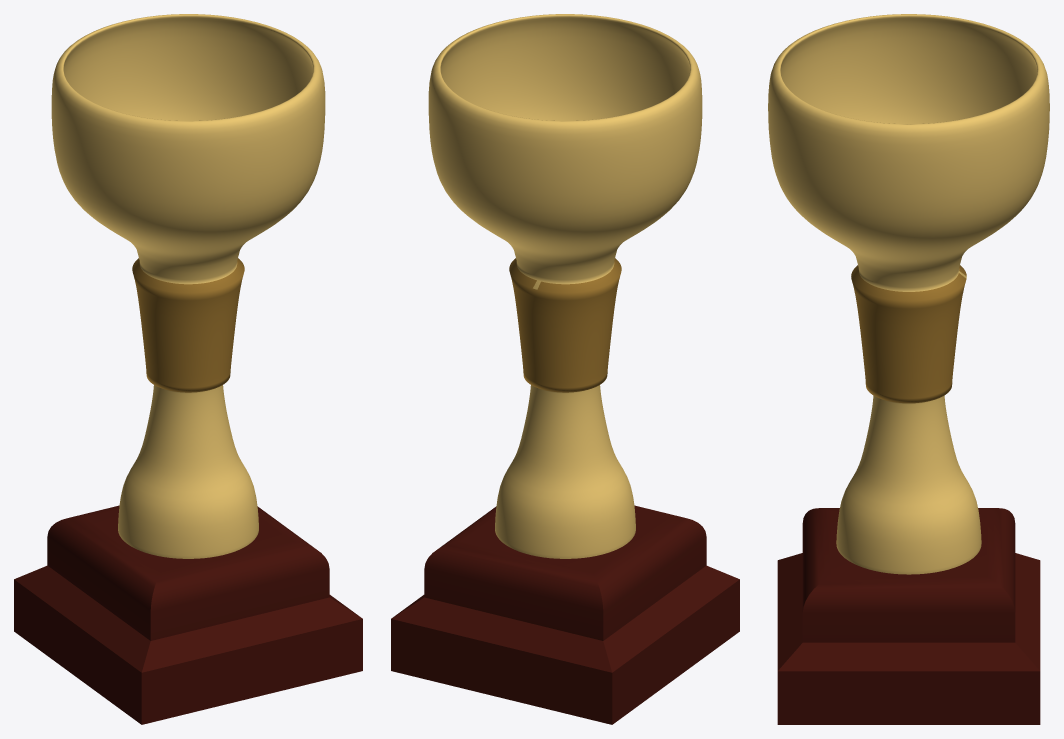
The model's file is puchar6.fbx.
3 views of the same model, side by side, from view 1: azimuth 30°, elevation 25°; view 2: azimuth 150°, elevation 25°; view 3: azimuth 270°, elevation 25° (orthographic). The views are drawn at different scales.
Parts seen in each view (by area): view 1: Vert; view 2: Vert; view 3: Vert.
Boxes of the visible parts, bbox=[...] form: Vert: bbox=[14, 14, 362, 724]; Vert: bbox=[391, 14, 739, 724]; Vert: bbox=[768, 14, 1049, 724].
Bounding box in the file's own units: 380 × 893 × 380.
